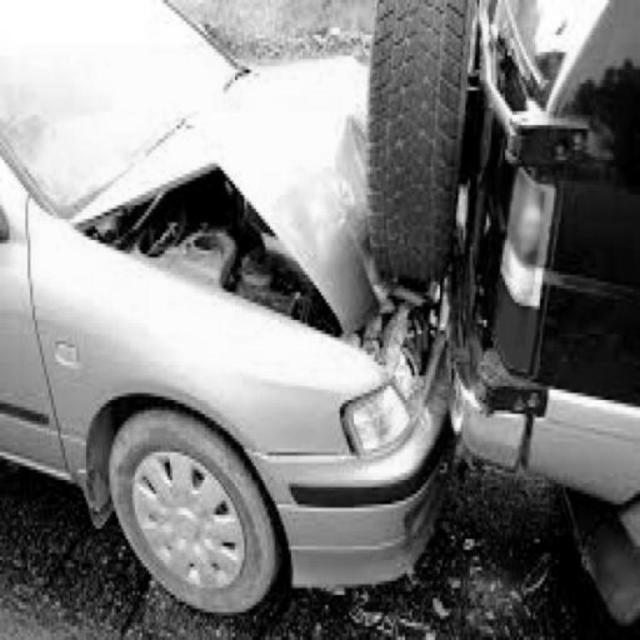accident: (20, 44, 640, 594)
